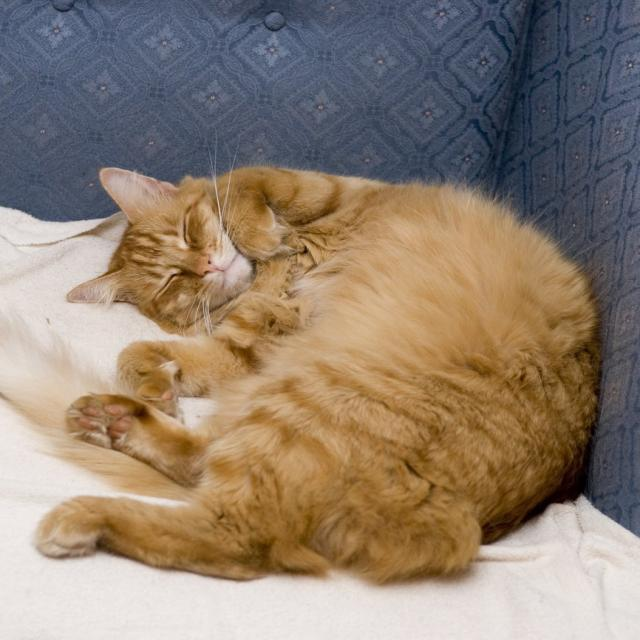Cat: (26, 131, 606, 585)
